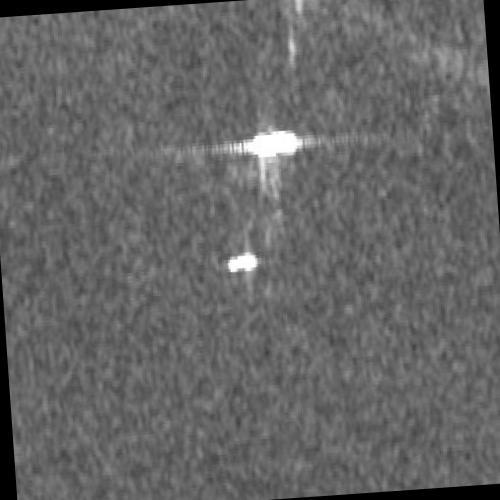ship: (247, 129, 300, 160), (227, 251, 259, 273)
